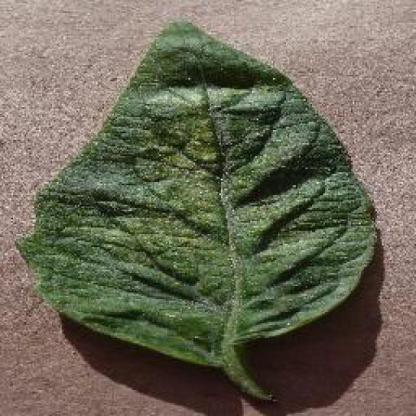Tomato_Spider_Mites: (20, 21, 372, 360)
